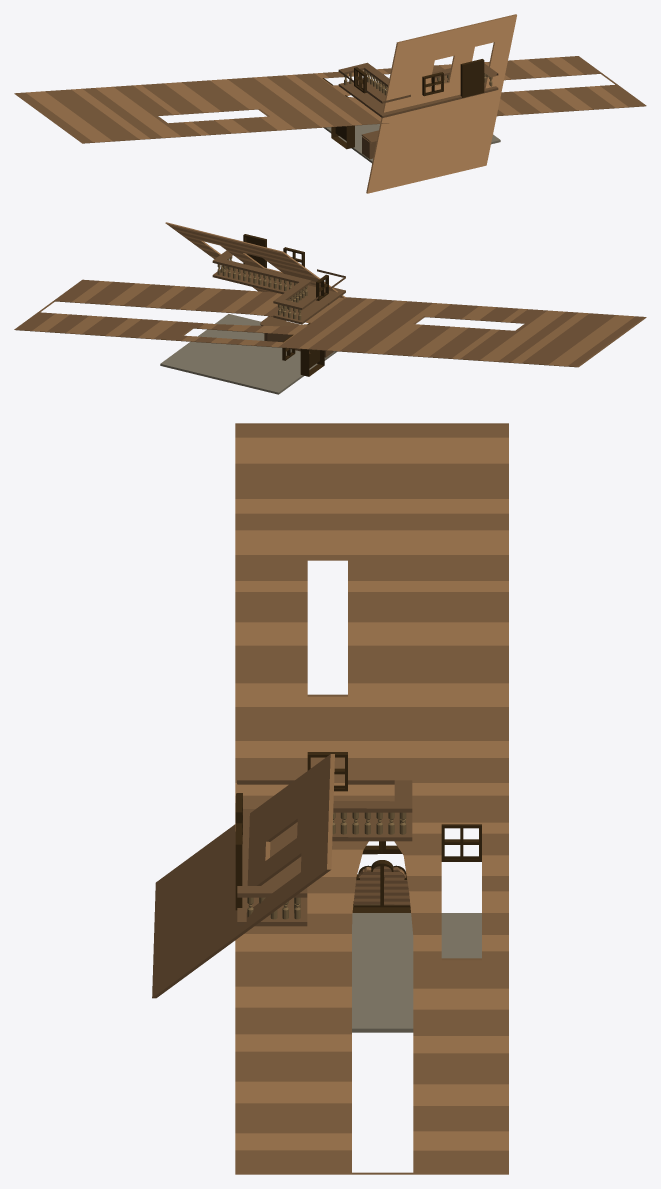
The model's file is Saloonv2.glb.
3 views of the same model, one above another, from view 1: azimuth 30°, elevation 25°; view 2: azimuth 150°, elevation 25°; view 3: azimuth 270°, elevation 25° (orthographic). The views are drawn at different scales.
Parts seen in each view (by area): view 1: Cube.001, Cube.002, UpstairsDoor, Balcony, Cube, GeneralRoomShape, BalconyLedge, Bar, DoorFrame, Window3; view 2: Cube.001, GeneralRoomShape, Cube.002, Cube, Cube.003, Balcony, BalconyLedge, DoorFrame, Bar, UpstairsDoor, window2; view 3: Cube.001, Cube.002, GeneralRoomShape, Cube, Balcony, BalconyLedge.
Part boxes in pixels (x1,y1,x2,y2): Cube.001: (14, 56, 646, 143); Cube.002: (366, 14, 516, 193); UpstairsDoor: (460, 59, 484, 97); Balcony: (338, 78, 406, 115); Cube: (365, 82, 498, 117); GeneralRoomShape: (323, 124, 500, 163); BalconyLedge: (338, 62, 410, 103); Bar: (361, 130, 378, 159); DoorFrame: (331, 125, 354, 149); Window3: (422, 72, 443, 96); Cube.001: (14, 279, 646, 367); GeneralRoomShape: (160, 314, 337, 394); Cube.002: (165, 222, 345, 298); Cube: (212, 267, 345, 305); Cube.003: (212, 250, 345, 290); Balcony: (273, 289, 345, 324); BalconyLedge: (273, 269, 345, 309); DoorFrame: (300, 349, 324, 376); Bar: (264, 319, 333, 357); UpstairsDoor: (243, 234, 266, 267); window2: (316, 274, 328, 300); Cube.001: (235, 423, 508, 1174); Cube.002: (152, 754, 334, 998); GeneralRoomShape: (352, 913, 481, 1032); Cube: (237, 809, 307, 926); Balcony: (242, 810, 412, 841); BalconyLedge: (237, 780, 412, 812).
Size of the model in its own units: 28.51 by 4.86 by 7.8.
